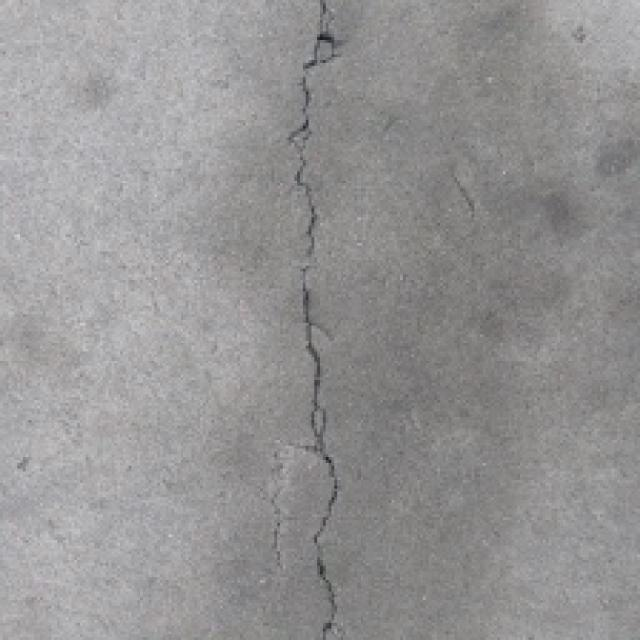crack: (244, 0, 382, 640)
